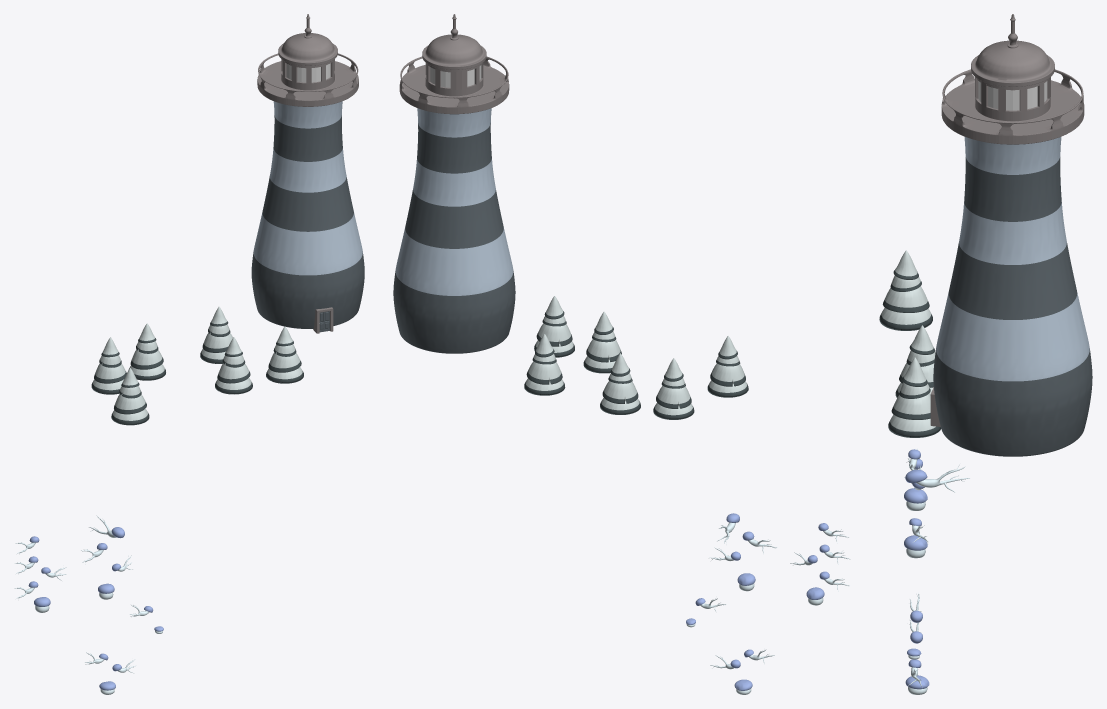
Rendered from Pilze_Bäume_Turm.fbx.
The picture shows the model from 3 angles, left to right: view 1: azimuth 30°, elevation 25°; view 2: azimuth 150°, elevation 25°; view 3: azimuth 270°, elevation 25°; orthographic projection. The views are drawn at different scales.
Visible parts, largest first — view 1: Cylinder6, Cylinder1, Cylinder4, Cylinder2, Cylinder3, Cylinder5, Cylinder7; view 2: Cylinder6, Cylinder7, Cylinder1, Cylinder3, Cylinder5, Cylinder4, Cylinder2; view 3: Cylinder6, Cylinder1, Cylinder2, Cylinder4, Pilzklein8, Pilzdick3, Pilzdick, Pilzdick2.
Boxes of the visible parts, box(x1,y1,x2,y2) form: Cylinder6: box(251, 14, 364, 328); Cylinder1: box(111, 368, 149, 425); Cylinder4: box(215, 337, 252, 394); Cylinder2: box(266, 326, 303, 383); Cylinder3: box(128, 323, 165, 380); Cylinder5: box(91, 337, 126, 394); Cylinder7: box(200, 306, 232, 363); Cylinder6: box(393, 14, 515, 353); Cylinder7: box(524, 334, 565, 395); Cylinder1: box(707, 336, 748, 397); Cylinder3: box(600, 353, 640, 414); Cylinder5: box(653, 358, 694, 419); Cylinder4: box(583, 311, 621, 373); Cylinder2: box(534, 296, 574, 357); Cylinder6: box(933, 14, 1092, 456); Cylinder1: box(879, 250, 932, 330); Cylinder2: box(888, 357, 941, 437); Cylinder4: box(895, 325, 935, 397); Pilzklein8: box(905, 464, 969, 492); Pilzdick3: box(904, 535, 927, 558); Pilzdick: box(904, 488, 927, 510); Pilzdick2: box(905, 675, 929, 694).
Size of the model in its own units: 4804 by 7233 by 1665.
